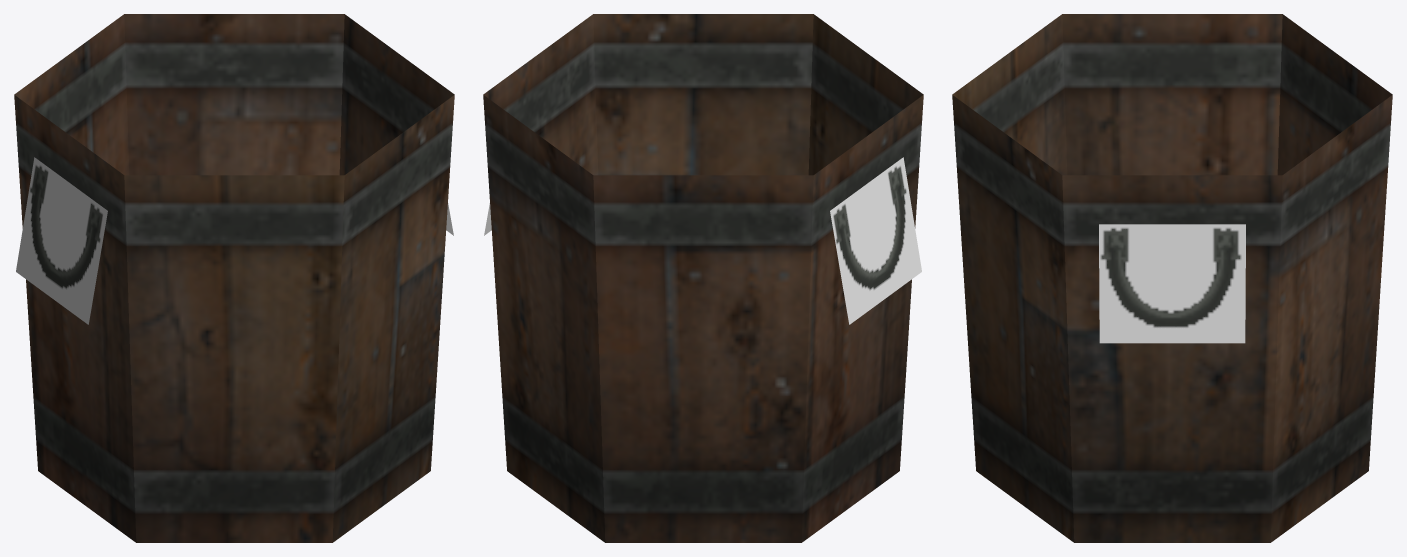
Rendered from Bucket_1.fbx.
The picture shows the model from 3 angles, left to right: view 1: azimuth 30°, elevation 25°; view 2: azimuth 150°, elevation 25°; view 3: azimuth 270°, elevation 25°; orthographic projection.
Visible parts, largest first — view 1: Bucket_1; view 2: Bucket_1; view 3: Bucket_1.
Boxes of the visible parts, box(x1,y1,x2,y2) form: Bucket_1: box(14, 14, 454, 542); Bucket_1: box(483, 14, 923, 542); Bucket_1: box(952, 14, 1392, 542).
Size of the model in its own units: 32.97 by 32.46 by 34.44.
